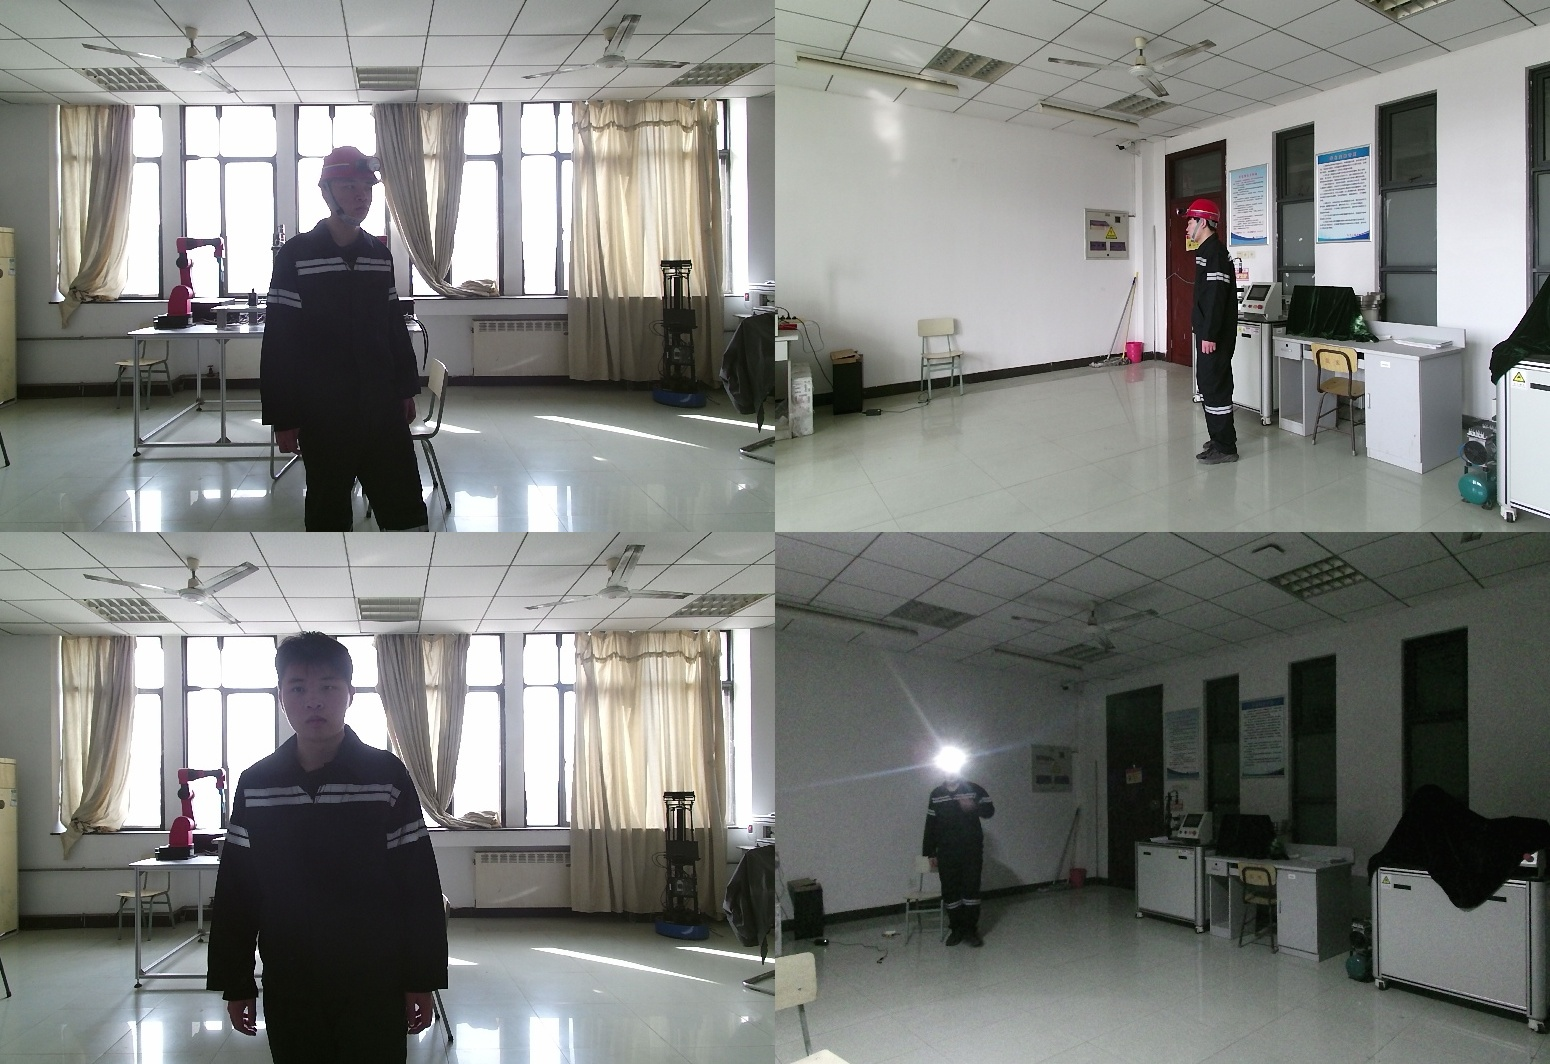person: (220, 632, 459, 1064), (269, 148, 438, 532), (917, 753, 998, 962), (1187, 202, 1248, 461)
